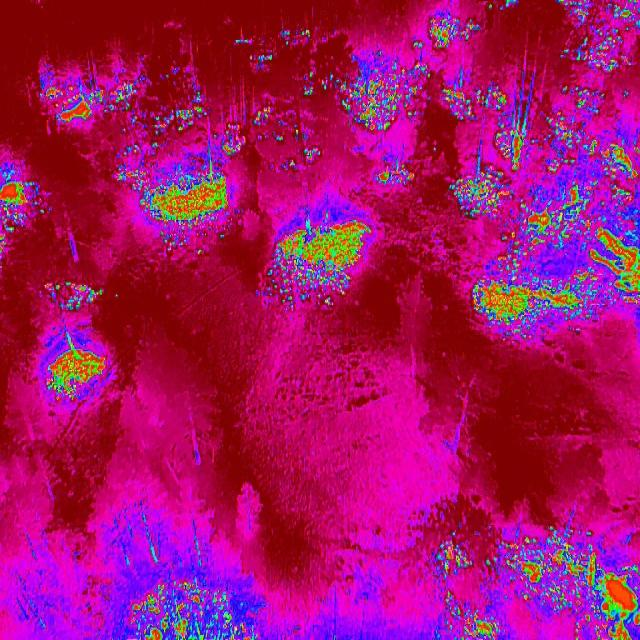fire: (452, 66, 640, 339), (430, 522, 638, 640), (106, 101, 242, 252), (118, 537, 260, 640), (242, 24, 330, 170), (263, 201, 374, 304), (332, 46, 434, 139), (40, 280, 110, 402), (34, 67, 142, 128), (552, 0, 638, 71), (0, 159, 44, 253), (420, 6, 484, 48), (370, 150, 424, 190)
